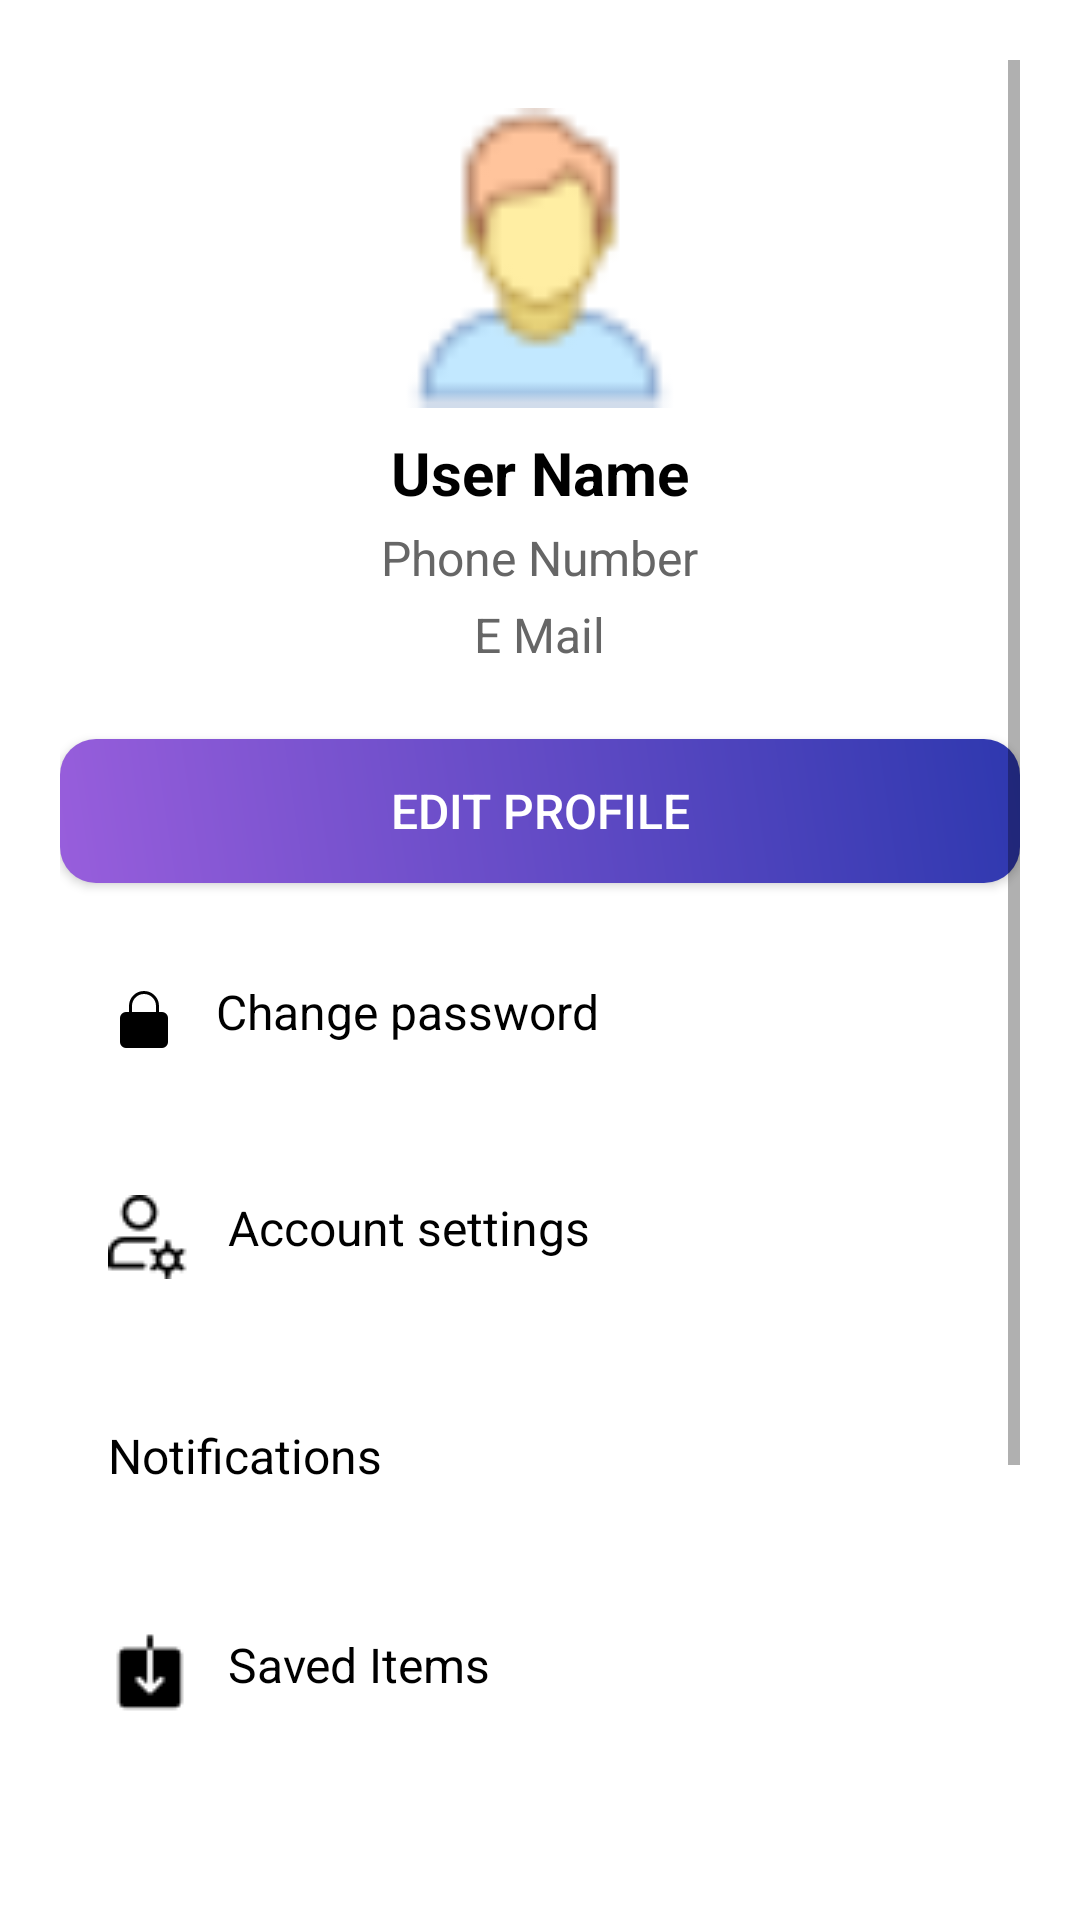

Icons on this 1080 x 1920 Android screen, each with the point to tap as point (x, y):
User profile image: point (540, 258)
